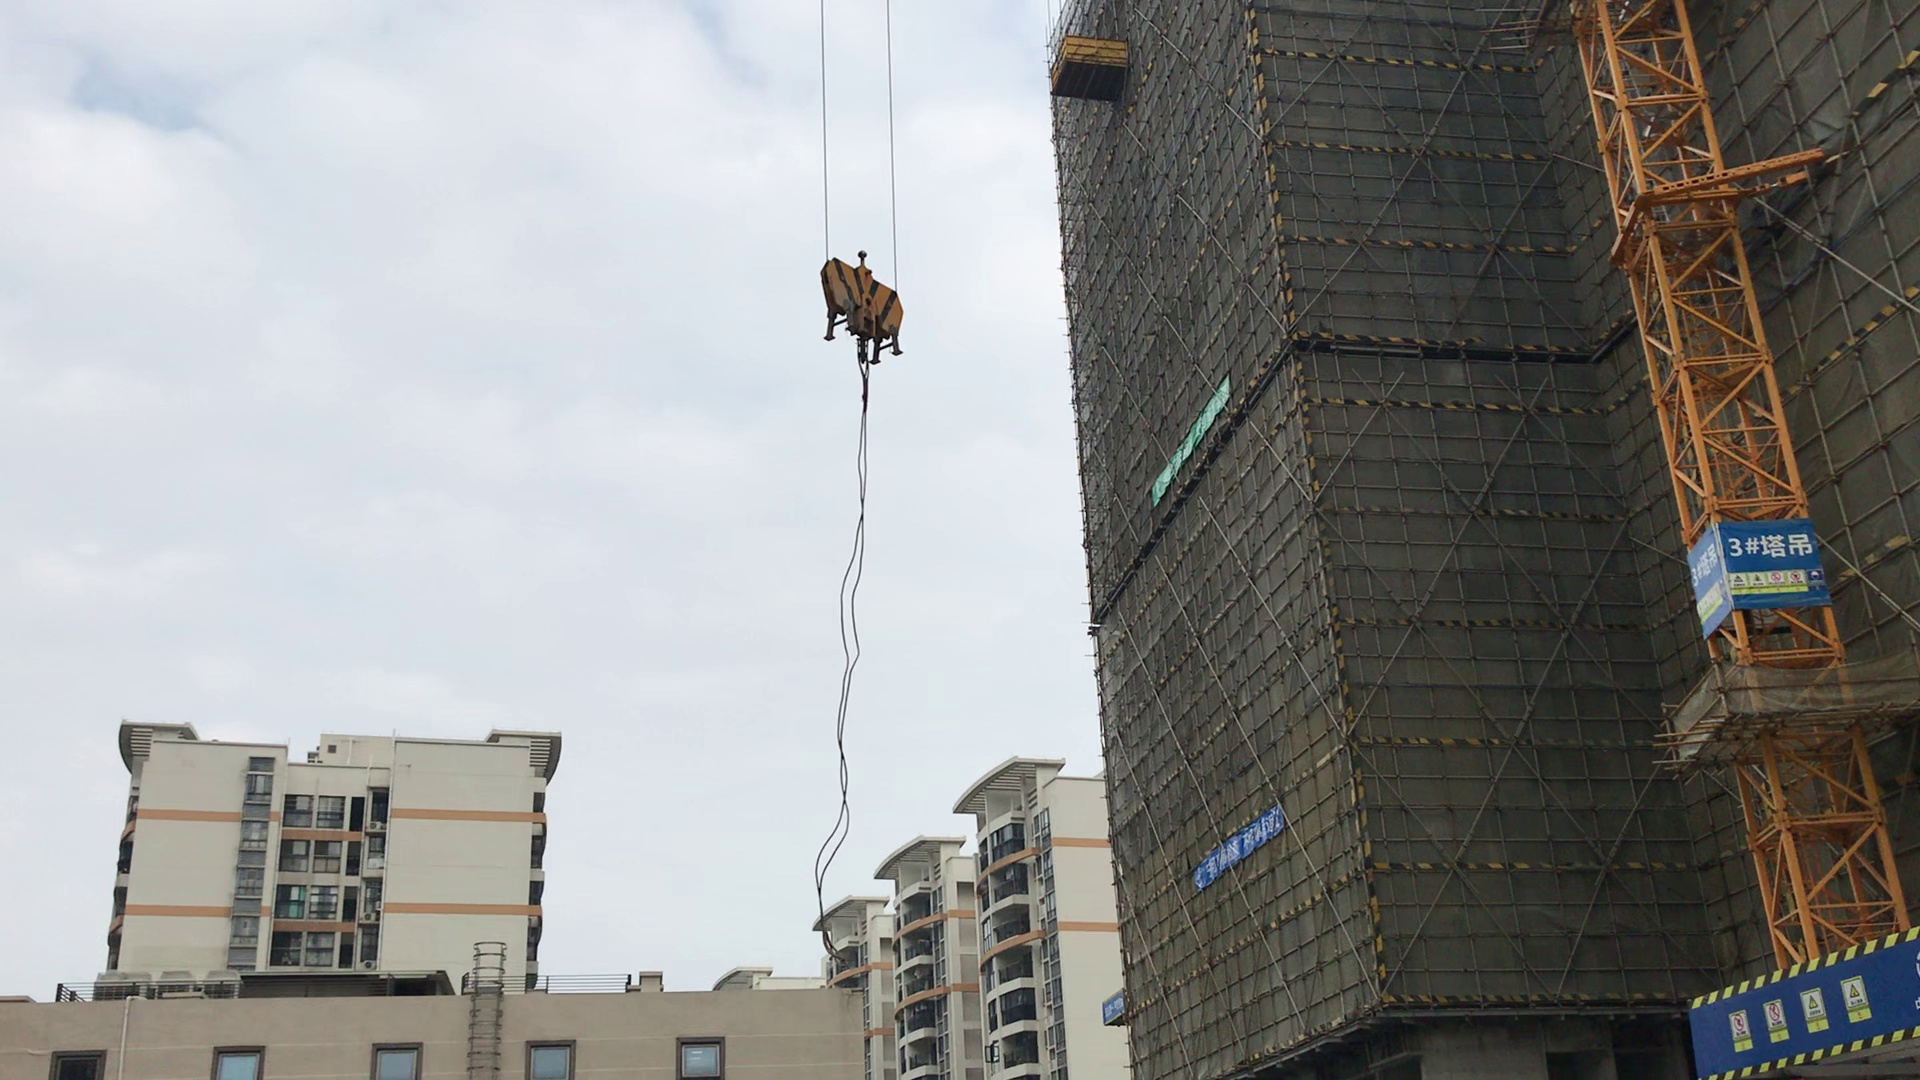hook: (820, 251, 909, 377)
slogan: (1147, 381, 1232, 501), (1720, 981, 1871, 1042), (1192, 806, 1283, 885), (1725, 574, 1809, 600)
